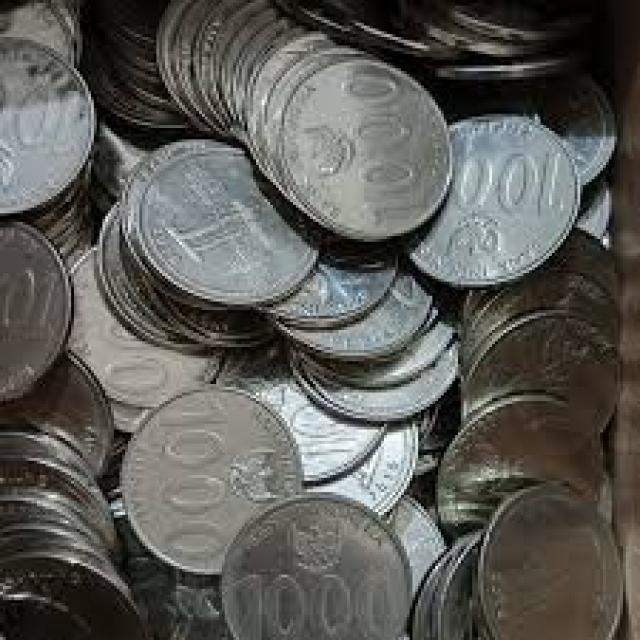coin_1000_e2010: (122, 381, 308, 566), (279, 50, 447, 241), (212, 489, 409, 640), (139, 141, 318, 307), (480, 482, 640, 640), (447, 113, 580, 285)
